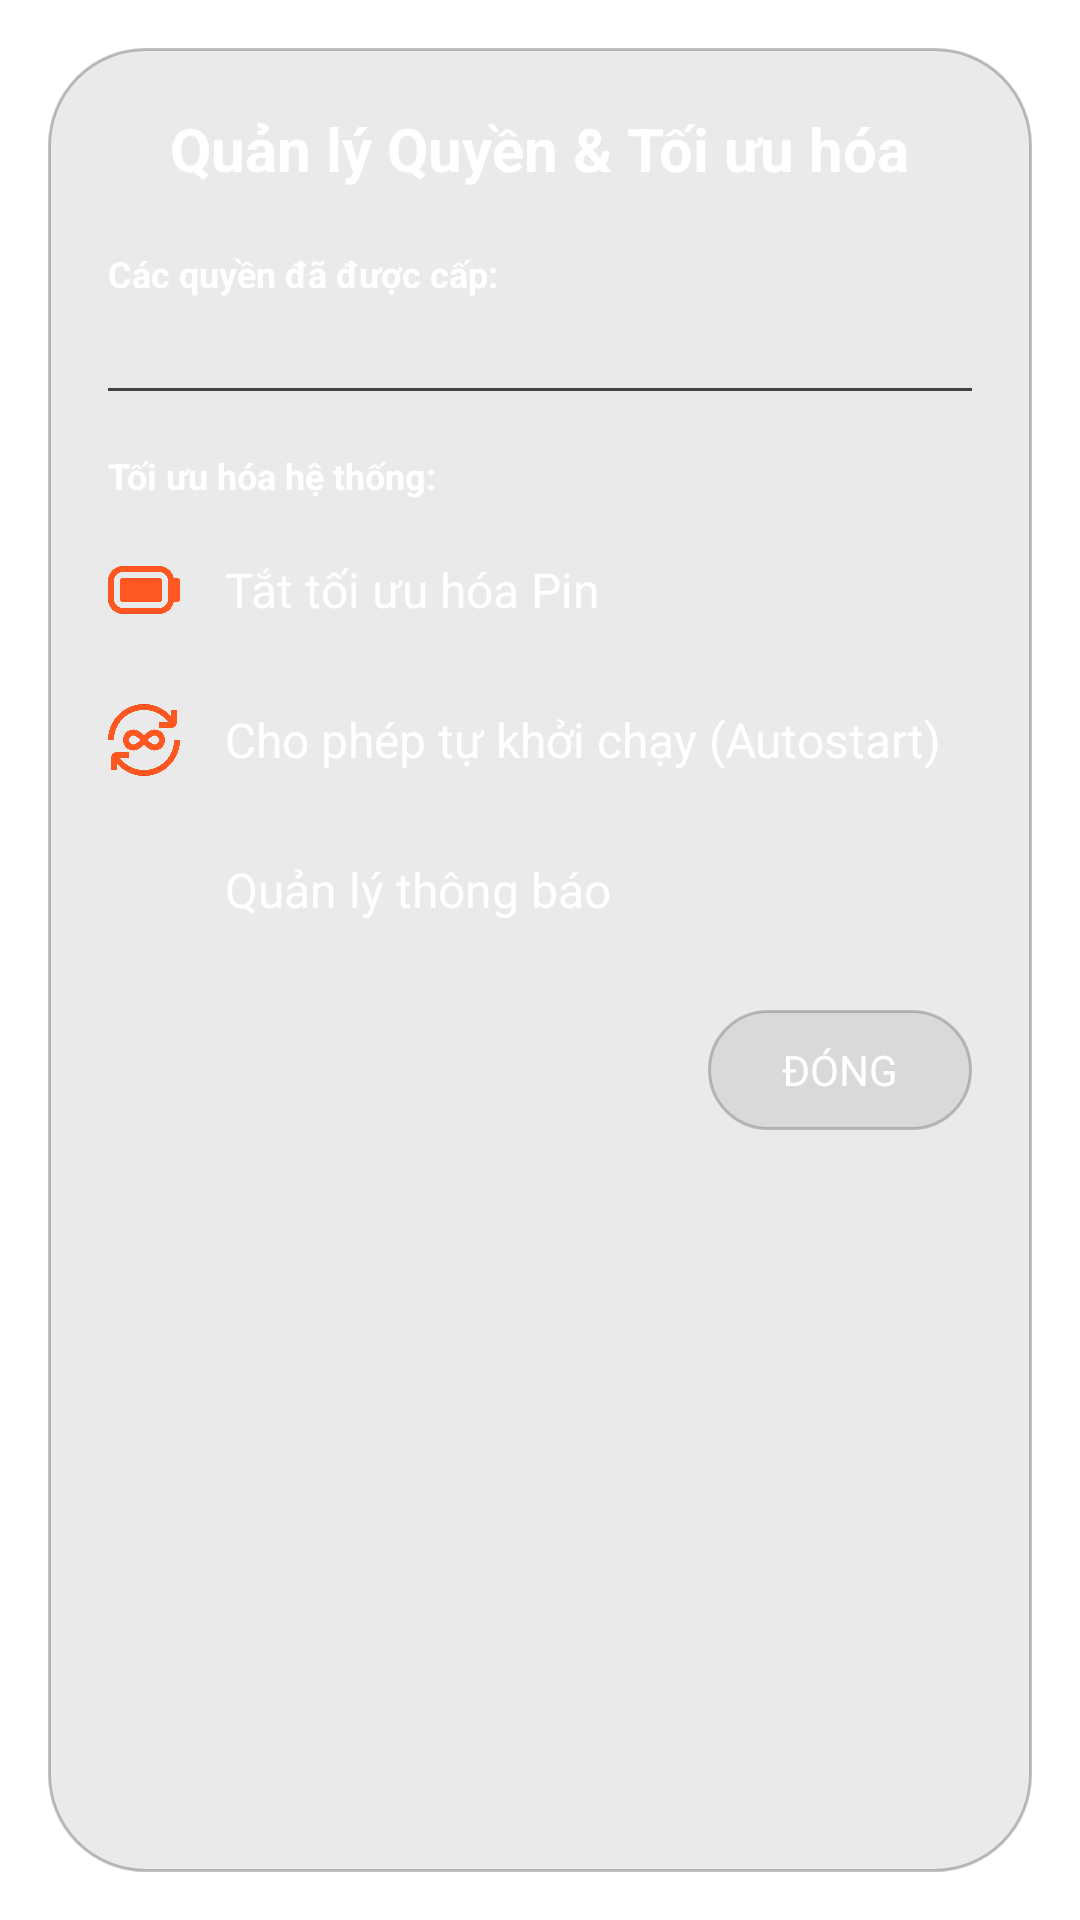

Named icons in this screenshot (1080 x 1920) and their bounding boxes, [left=x1, top=y1, right=x2, bottom=y2]:
autorenew: [left=108, top=704, right=180, bottom=776]
battery: [left=108, top=566, right=180, bottom=614]
